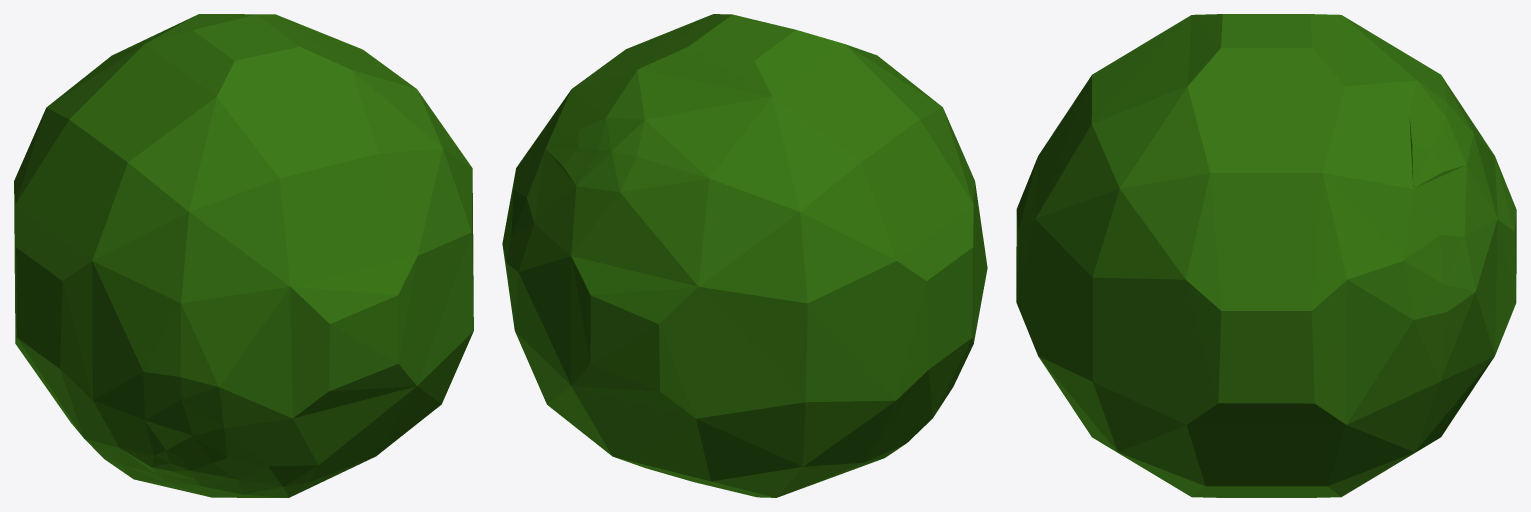
Rendered from VoronoiSphere.obj.
3 views of the same model, side by side, from view 1: azimuth 30°, elevation 25°; view 2: azimuth 150°, elevation 25°; view 3: azimuth 270°, elevation 25° (orthographic). The views are drawn at different scales.
Parts seen in each view (by area): view 1: Icosphere; view 2: Icosphere; view 3: Icosphere.
Boxes of the visible parts, bbox=[...] form: Icosphere: bbox=[14, 14, 473, 497]; Icosphere: bbox=[502, 14, 987, 497]; Icosphere: bbox=[1016, 14, 1516, 497].
Bounding box in the file's own units: 18.19 × 18.44 × 18.44.
